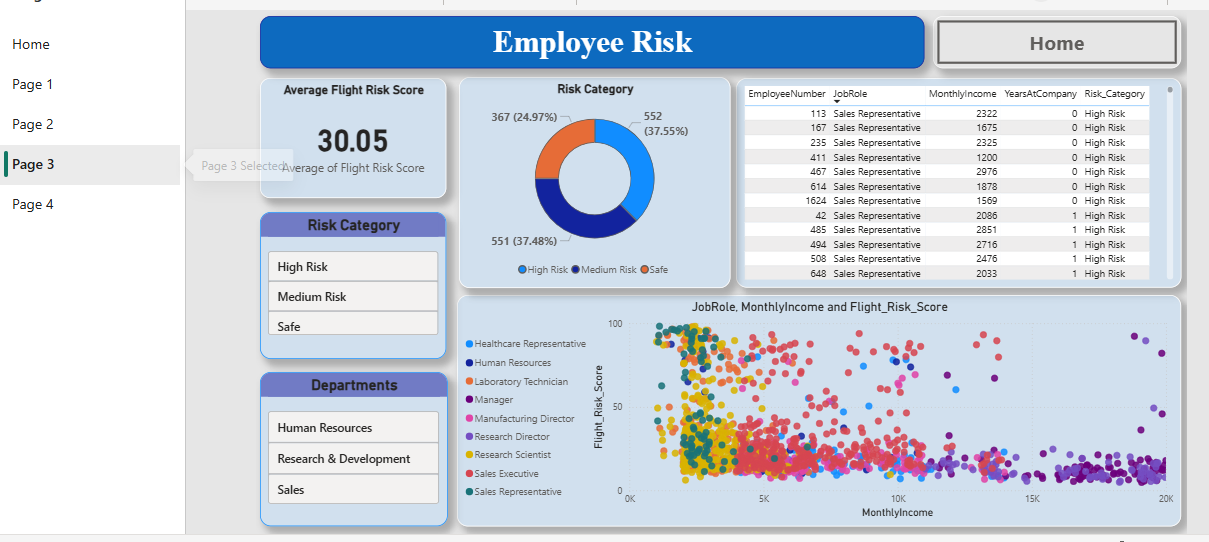

This screenshot's page, from the dashboard's own definition file:
{"tool":"powerbi","page":{"name":"Page 3","canvas":[1280,720],"ordinal":3},"visuals":[{"type":"tableEx","fields":{"Values":["IBM_HR_Final_PowerBI.EmployeeNumber","IBM_HR_Final_PowerBI.JobRole","IBM_HR_Final_PowerBI.MonthlyIncome","IBM_HR_Final_PowerBI.YearsAtCompany","IBM_HR_Final_PowerBI.Risk_Category"]},"box":[660,93.7,611.7,288.3],"z":0},{"type":"scatterChart","fields":{"Y":["IBM_HR_Final_PowerBI.Flight_Risk_Score"],"X":["IBM_HR_Final_PowerBI.MonthlyIncome"],"Series":["IBM_HR_Final_PowerBI.JobRole"]},"box":[276.6,392.2,995.1,317.6],"z":1000},{"type":"cardVisual","title":"Departments","fields":{"Rows":["IBM_HR_Final_PowerBI.Department"]},"box":[5.9,497.6,257.6,212.2],"z":2000},{"type":"cardVisual","title":"Risk Category","fields":{"Rows":["IBM_HR_Final_PowerBI.Risk_Category"]},"box":[5.9,278,256.1,202],"z":3000},{"type":"donutChart","title":"Risk Category","fields":{"Category":["IBM_HR_Final_PowerBI.Risk_Category"],"Y":["CountNonNull(IBM_HR_Final_PowerBI.EmployeeNumber)"]},"box":[279.5,92.2,373,289.5],"z":4000},{"type":"card","title":"Average Flight Risk Score","fields":{"Values":["Avg(IBM_HR_Final_PowerBI.Flight_Risk_Score)"]},"box":[5.9,93.7,256.1,165.4],"z":5000},{"type":"actionButton","box":[930.7,8.8,341,71.7],"z":6000},{"type":"textbox","box":[5.9,8.8,913.2,71.7],"z":7000}]}

Visuals, with their boxes on the page's 1280x720 design canvas (x1, y1, x2, y2). These are canvas units, not pixel positions in the 1209x542 screenshot, which may show the page scaled, cropped or inside an application window:
tableEx - IBM_HR_Final_PowerBI.EmployeeNumber x IBM_HR_Final_PowerBI.JobRole: bbox=(660, 94, 1272, 382)
scatterChart - IBM_HR_Final_PowerBI.Flight_Risk_Score x IBM_HR_Final_PowerBI.MonthlyIncome: bbox=(277, 392, 1272, 710)
"Departments" cardVisual: bbox=(6, 498, 264, 710)
"Risk Category" cardVisual: bbox=(6, 278, 262, 480)
"Risk Category" donutChart: bbox=(280, 92, 652, 382)
"Average Flight Risk Score" card: bbox=(6, 94, 262, 259)
actionButton: bbox=(931, 9, 1272, 80)
textbox: bbox=(6, 9, 919, 80)
